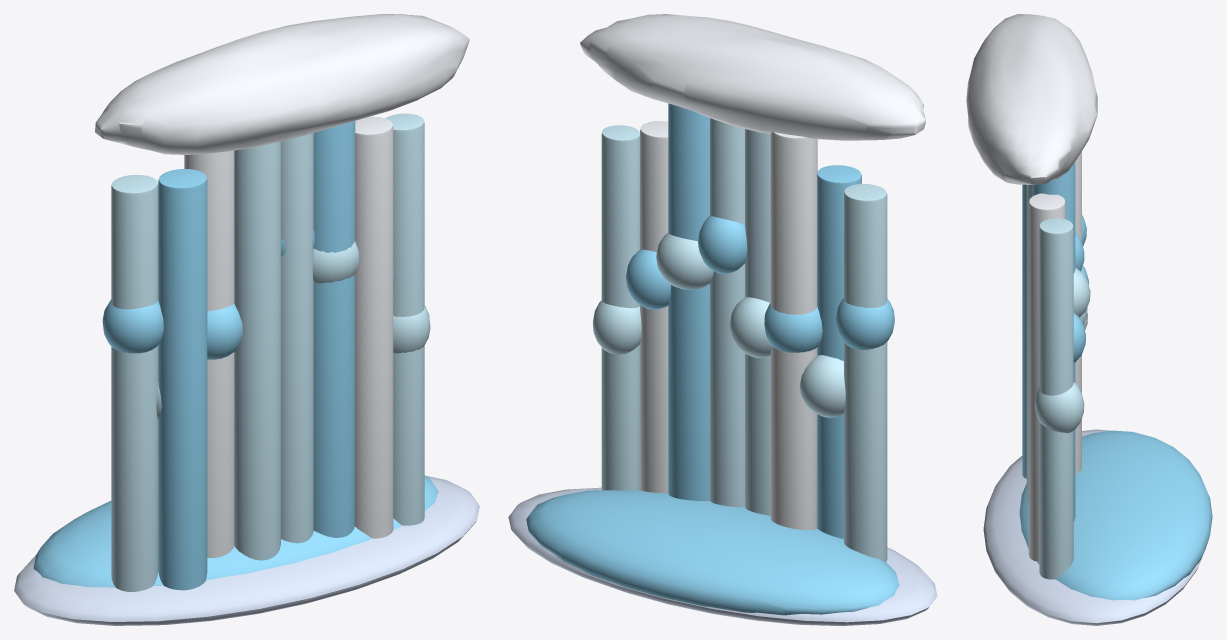
The model's file is FrozenFall.glb.
3 views of the same model, side by side, from view 1: azimuth 30°, elevation 25°; view 2: azimuth 150°, elevation 25°; view 3: azimuth 270°, elevation 25° (orthographic). The views are drawn at different scales.
Visible parts, largest first — view 1: FrozenFall; view 2: FrozenFall; view 3: FrozenFall.
Part boxes in pixels (x1=…): FrozenFall: x1=14, y1=14, x2=479, y2=625; FrozenFall: x1=508, y1=14, x2=937, y2=625; FrozenFall: x1=966, y1=14, x2=1212, y2=625.
Bounding box in the file's own units: 31.9 × 38.38 × 17.38.
1 material, 1 textured.
